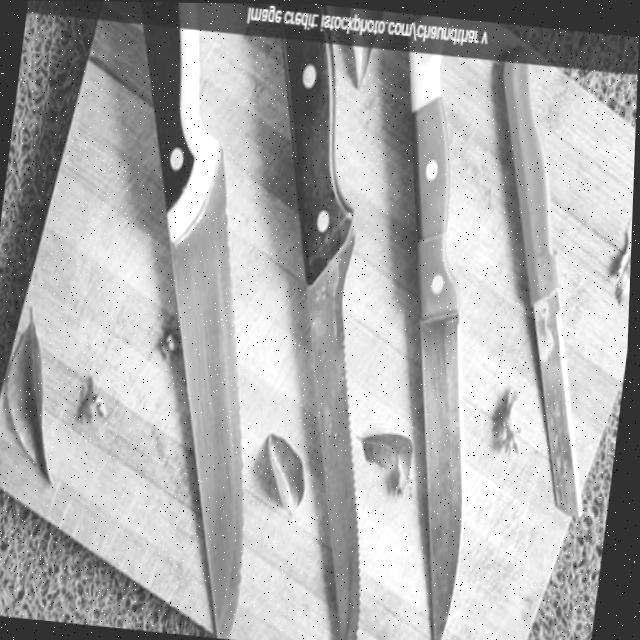knife: (70, 23, 308, 639), (209, 32, 436, 640), (337, 47, 519, 640), (450, 54, 639, 518)
